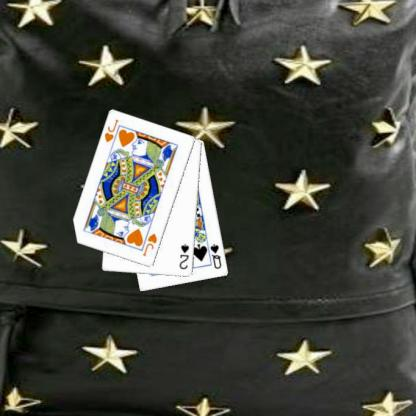2S: (177, 241, 190, 271)
JH: (140, 230, 159, 258), (102, 117, 120, 144)
QS: (208, 241, 223, 270)
